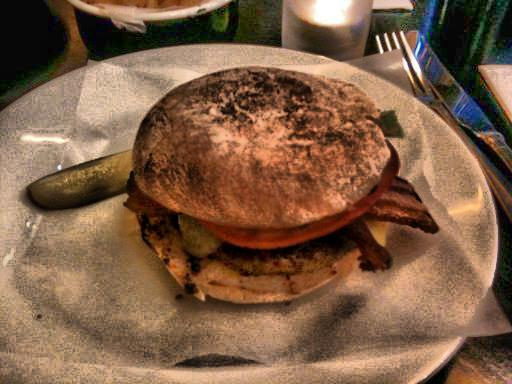burger: (105, 52, 416, 307)
